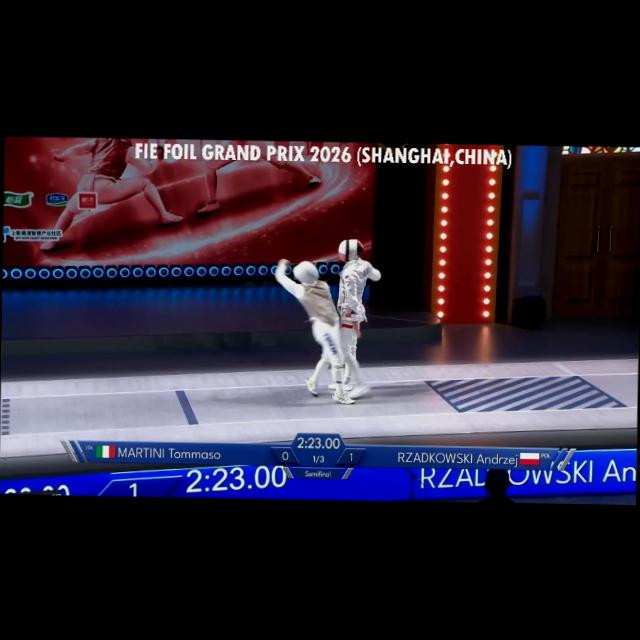blade: (304, 266, 347, 296)
